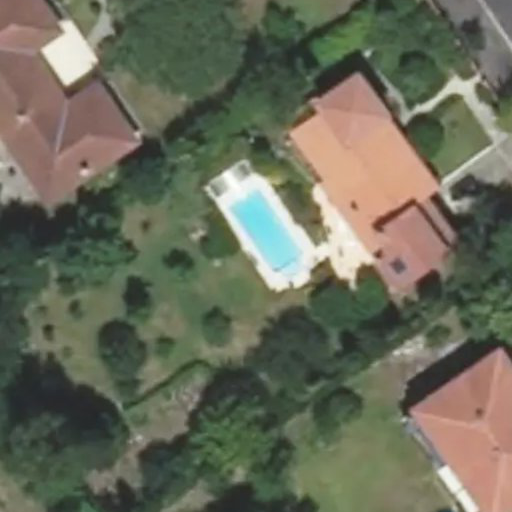pool: (217, 220, 294, 263)
